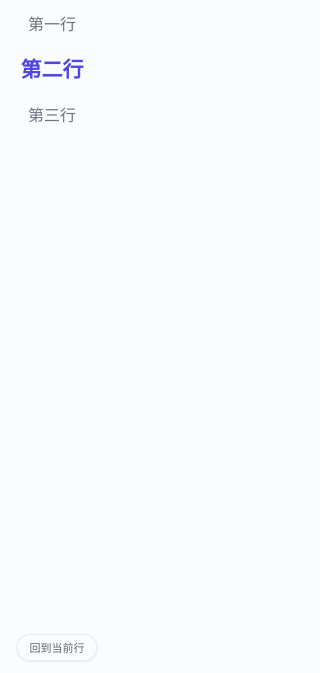
Scenario: LyricScroller 手动滚动暂停跟随 › 滚轮一动就暂停自动跟随，并给出回到当前行的入口
(page scrolled)
Click the button "回到当前行". click: (57, 647)
box: [16,634,98,661]
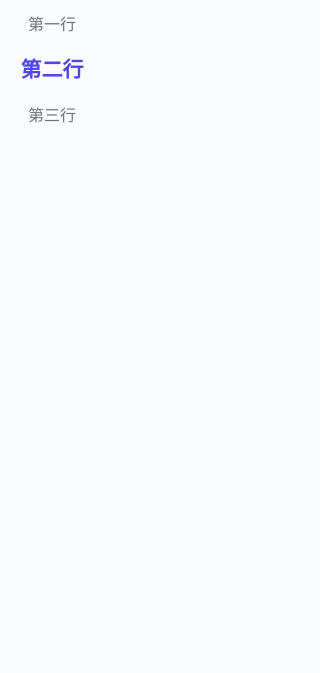
Now the button "回到当前行" is gone
